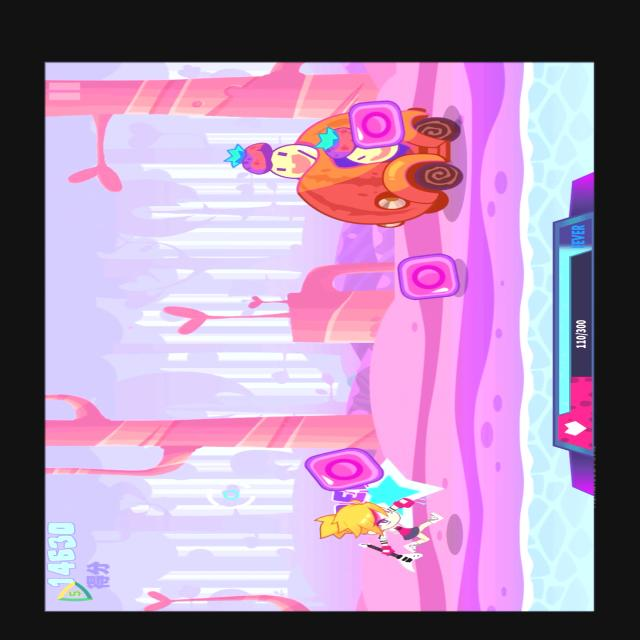Ground-Monster---Cube: (301, 442, 386, 492), (390, 253, 473, 300), (343, 96, 407, 146)
